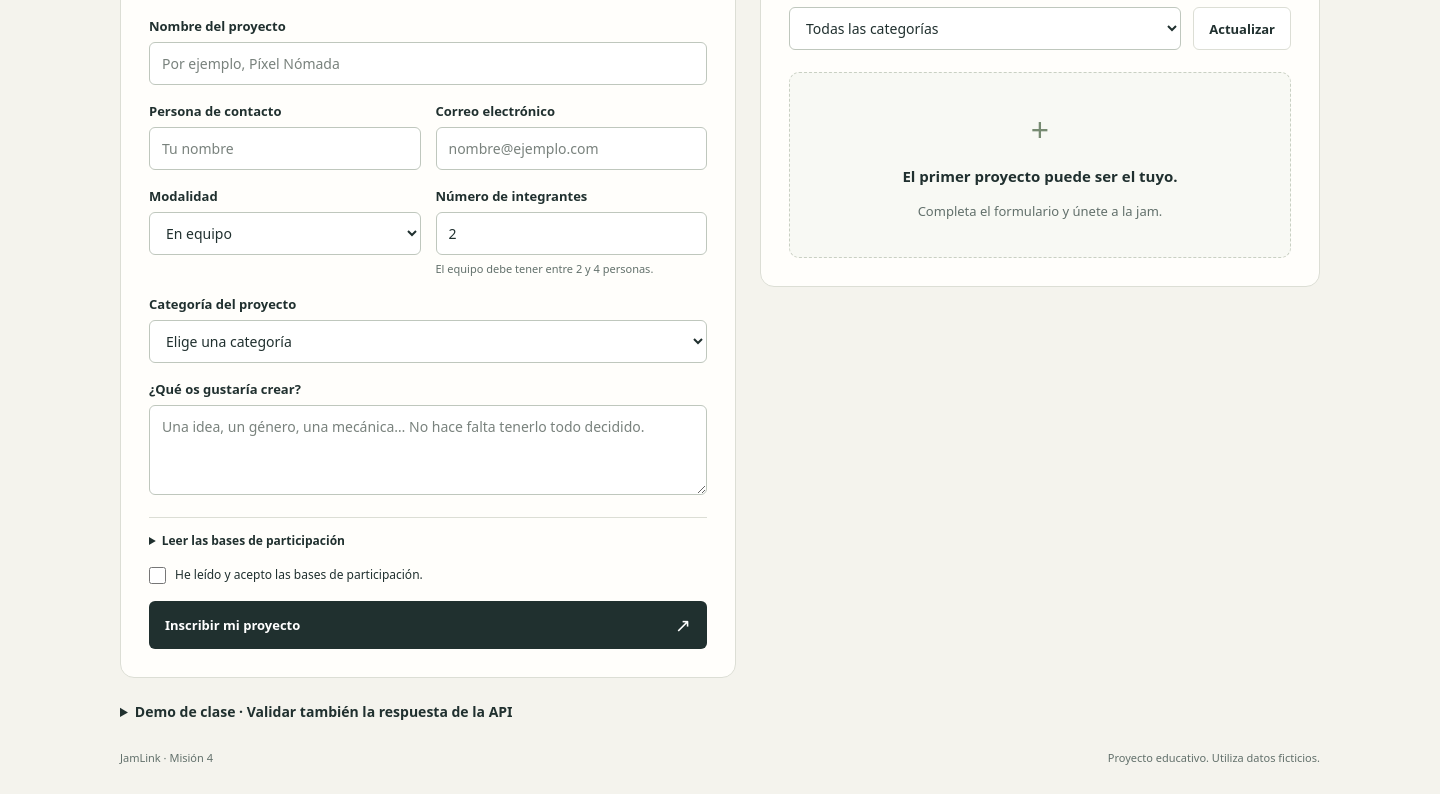
Test: JamLink: formulario y listado conectados › impide enviar un formulario vacío y enfoca el primer campo incorrecto
(page scrolled)
Expected: the heading "El primer proyecto puede ser el tuyo." is shown, [902, 166, 1178, 186]
What coordinates should you click on to do the following:
click the button "Inscribir mi proyecto ↗"
I would click on:
 (233, 625)
Its box is [149, 601, 707, 649].
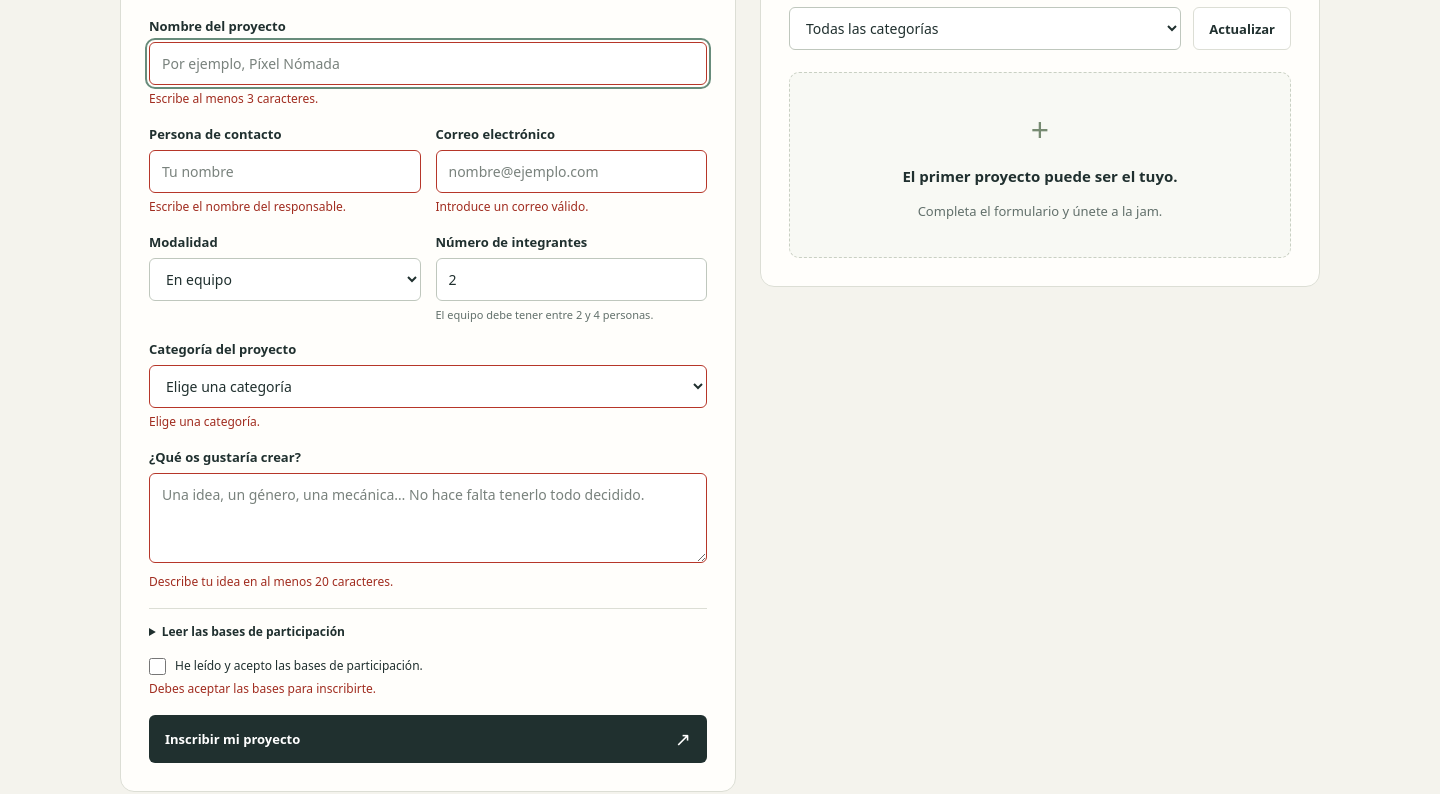
Now the text "Escribe al menos 3 caracteres." is shown, box [149, 90, 318, 107]
Now the text "Debes aceptar las bases para inscribirte." is shown, box [149, 680, 376, 697]
